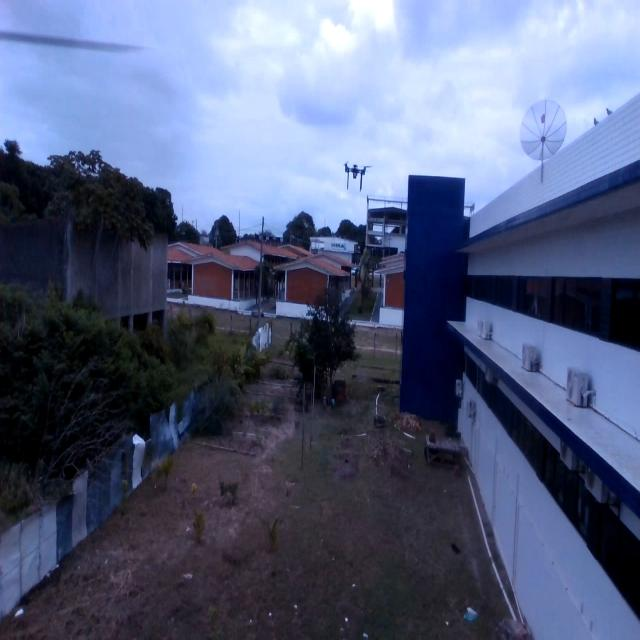-uav-: (340, 147, 376, 203)
